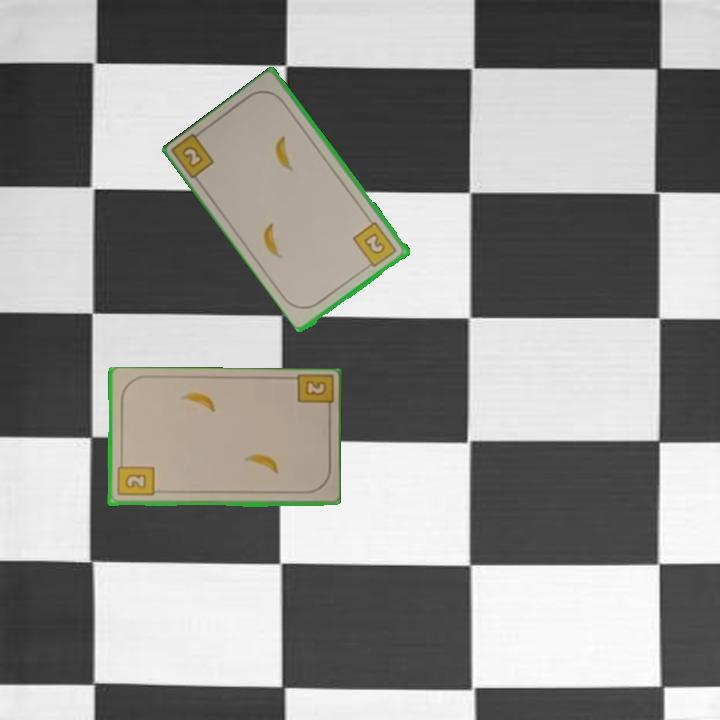2b: (350, 218, 400, 271), (292, 373, 333, 417), (114, 457, 156, 499), (179, 142, 206, 171)
